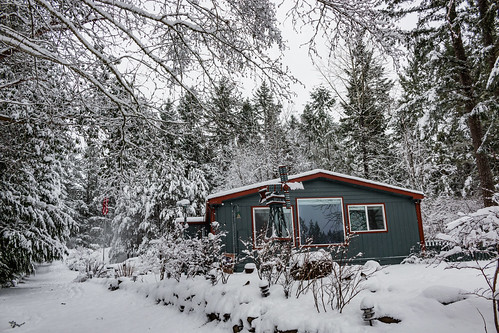building: (194, 169, 435, 266)
vegetation: (1, 1, 499, 255)
